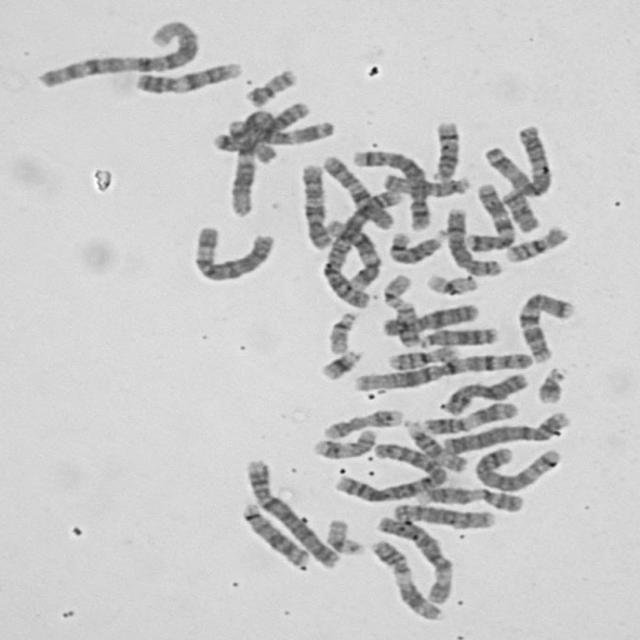A1: (32, 16, 202, 91), (350, 347, 534, 393)
A2: (316, 183, 402, 310), (331, 438, 448, 504)
A3: (478, 120, 555, 199), (244, 97, 338, 146)
B4: (240, 454, 341, 570), (437, 407, 573, 456)
B5: (350, 144, 434, 232), (469, 442, 564, 492)
C10: (317, 151, 397, 232), (298, 159, 335, 251)
C11: (366, 535, 444, 622), (418, 398, 520, 436)
C12: (320, 216, 381, 294), (225, 116, 262, 218)
C6: (372, 511, 456, 608), (187, 220, 277, 284)
C7: (512, 287, 578, 365), (463, 181, 517, 253)
C8: (442, 204, 503, 278), (389, 500, 498, 531)
C9: (131, 57, 245, 96), (410, 481, 528, 514)
D13: (237, 499, 314, 568), (416, 322, 499, 350)
D14: (385, 227, 448, 266), (428, 117, 463, 182)
D15: (400, 416, 469, 473), (378, 170, 473, 198)
E16: (501, 222, 571, 265), (384, 341, 463, 371)
E17: (318, 404, 405, 441), (308, 425, 379, 461)
E18: (210, 128, 280, 165), (498, 186, 541, 234)
F19: (323, 515, 367, 557), (422, 270, 481, 296)
F20: (241, 64, 300, 108), (392, 299, 422, 348)
G21: (316, 345, 366, 381), (533, 363, 568, 405)
G22: (325, 308, 360, 355), (378, 270, 414, 310)
X: (440, 368, 531, 416), (378, 300, 482, 338)
